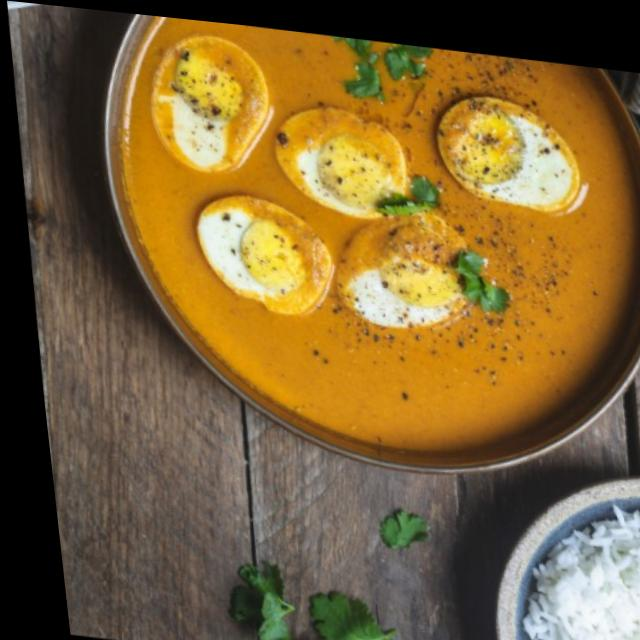EGG: (125, 17, 640, 450)
